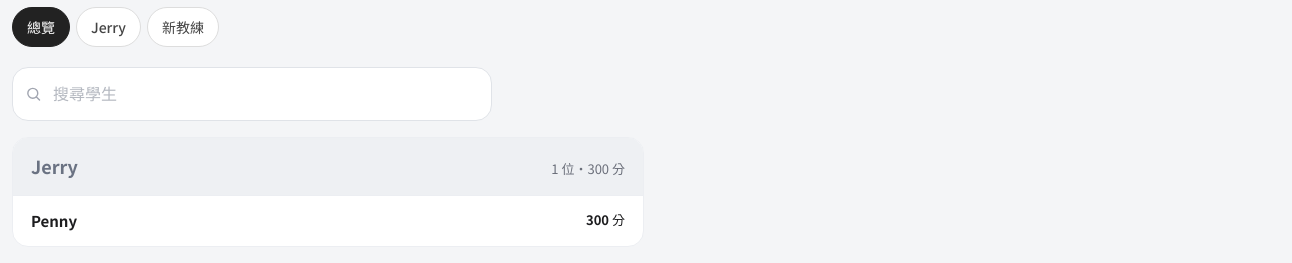
it: AdminCoachDesignatedHours › searches students without matching coach names
The image size is (1292, 263).
In the field labelled "搜尋學生": (252,94) [12,67,492,121], type "Jerry"
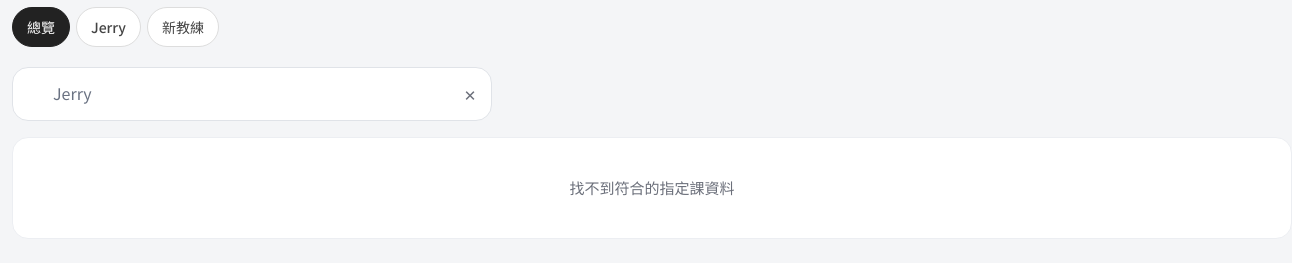
Expected: the text "找不到符合的指定課資料" is shown, [12,137,1291,239]
